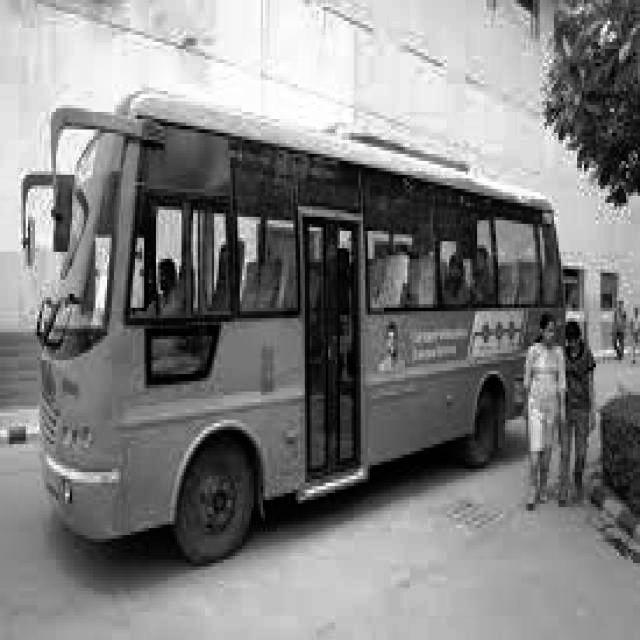Bus: (16, 70, 580, 560)
